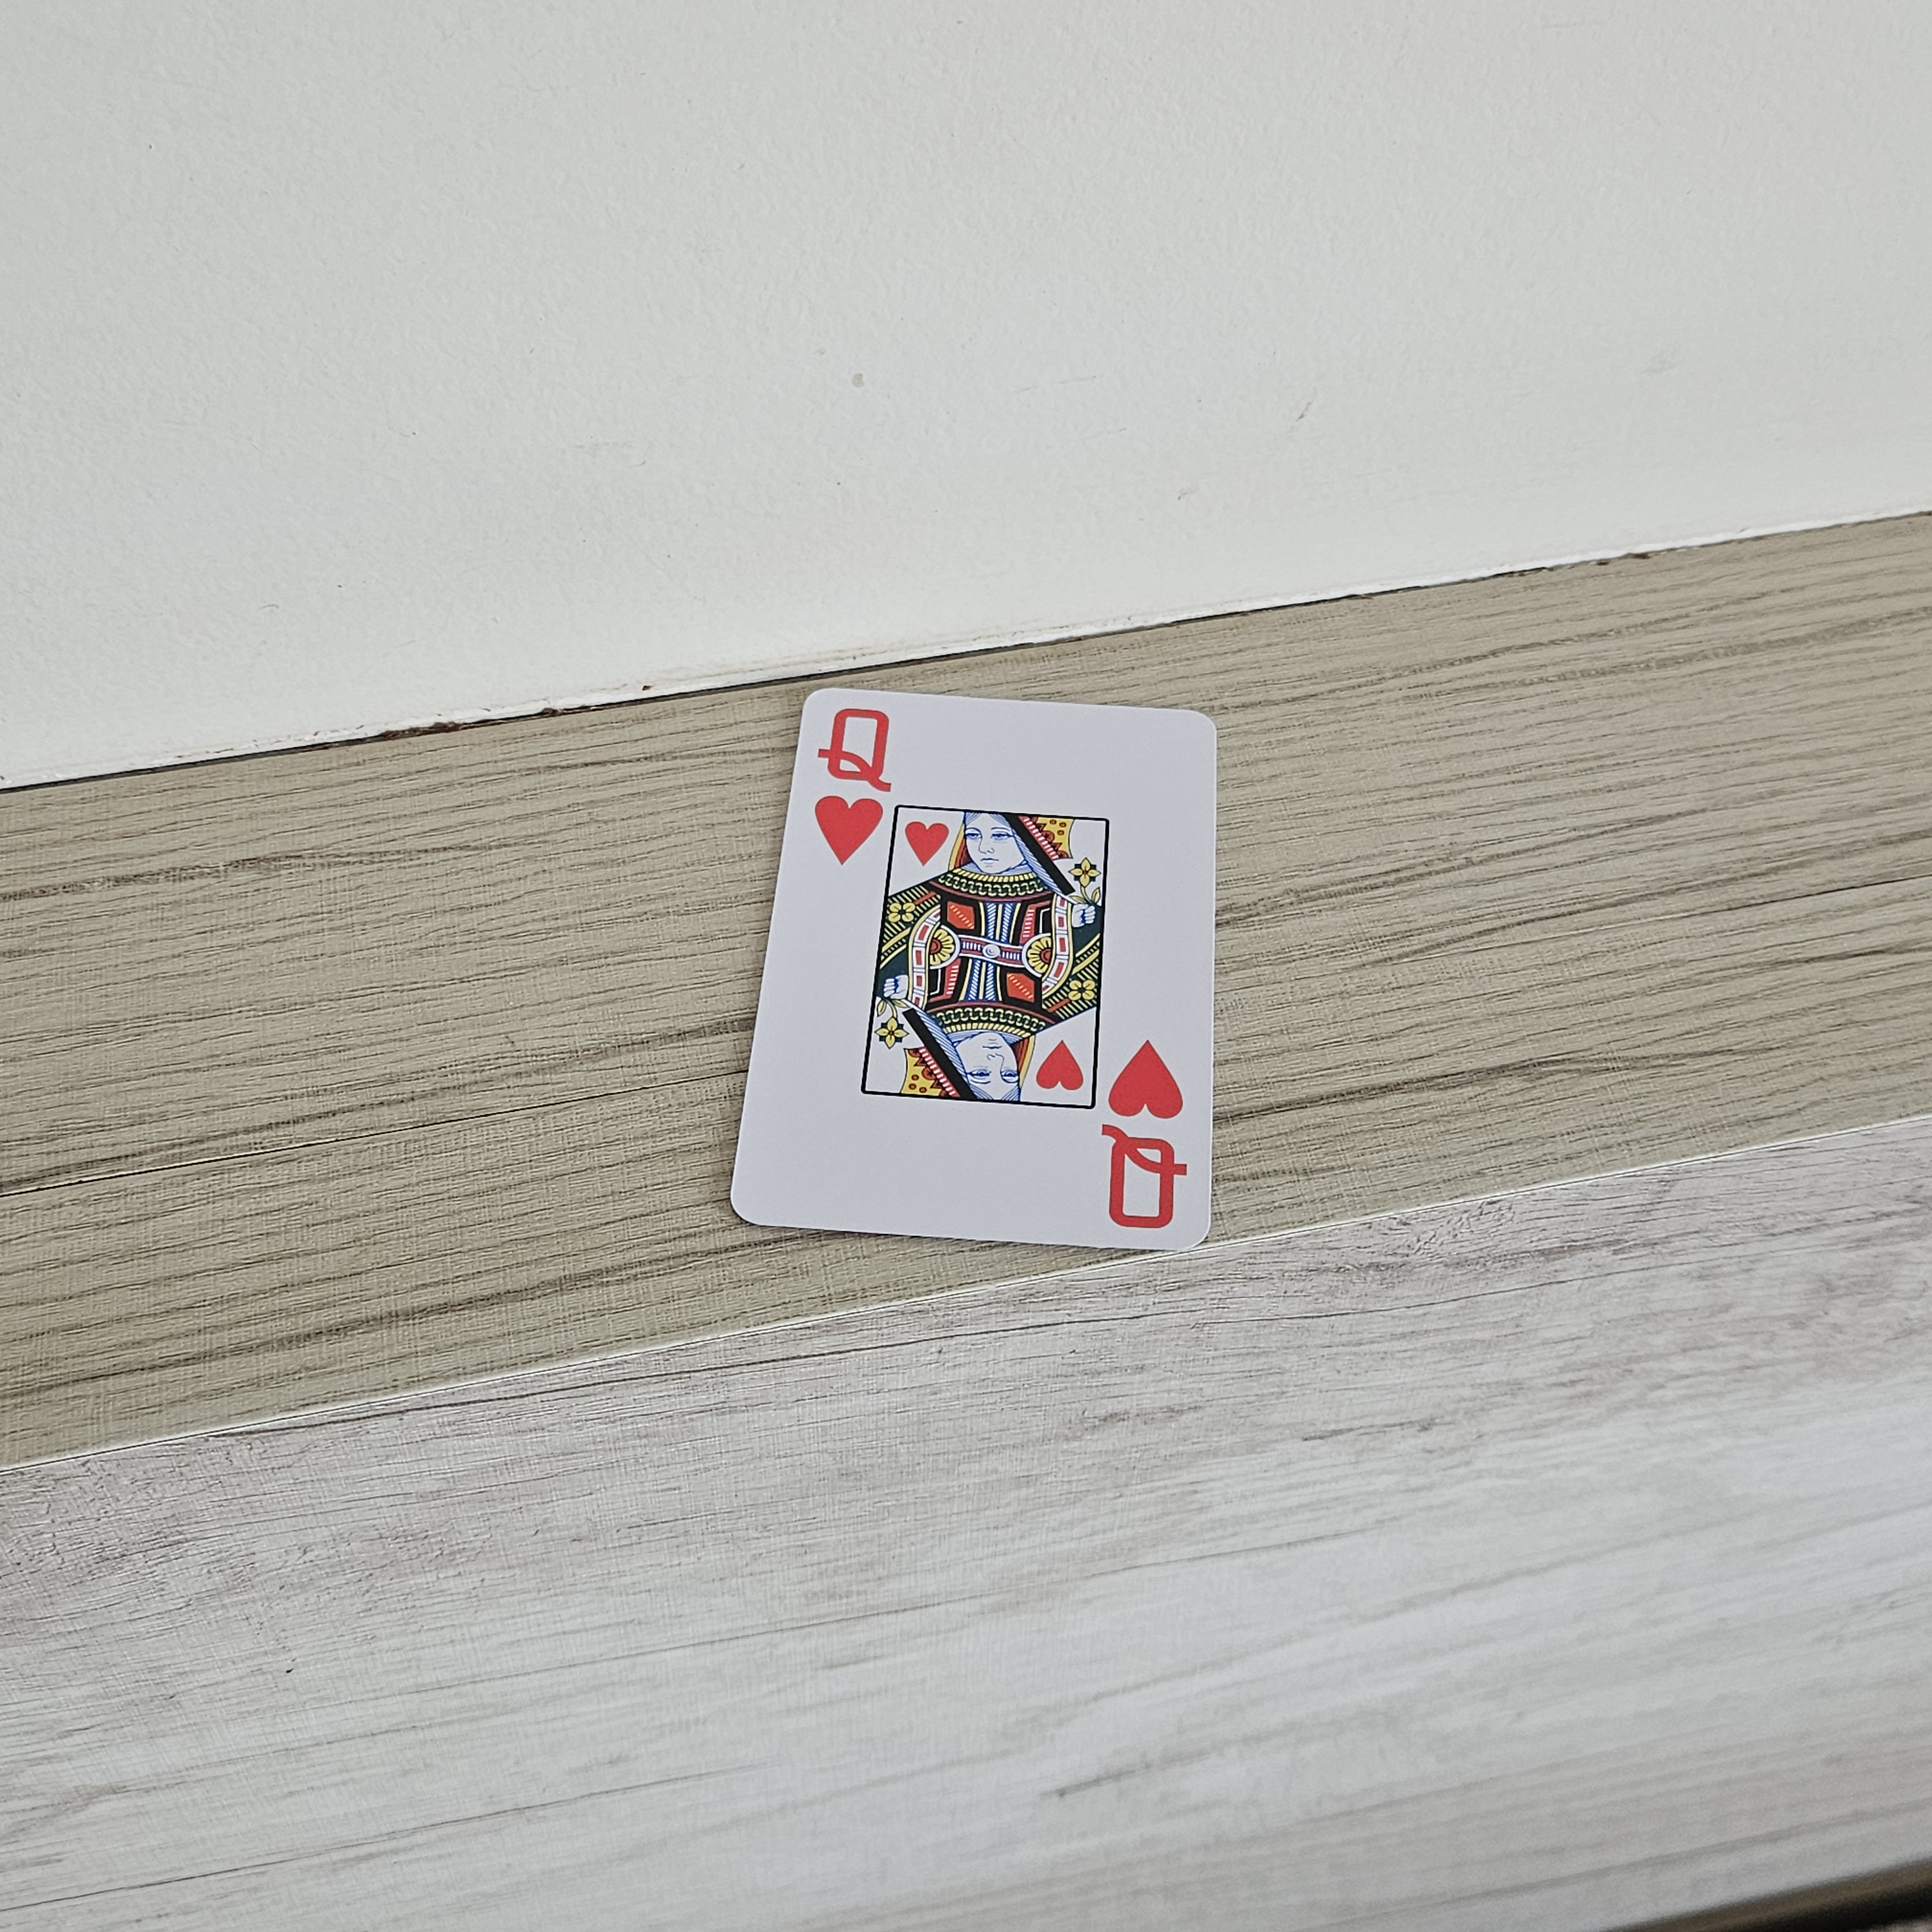QC: (1093, 1030, 1203, 1244), (800, 688, 899, 874)
